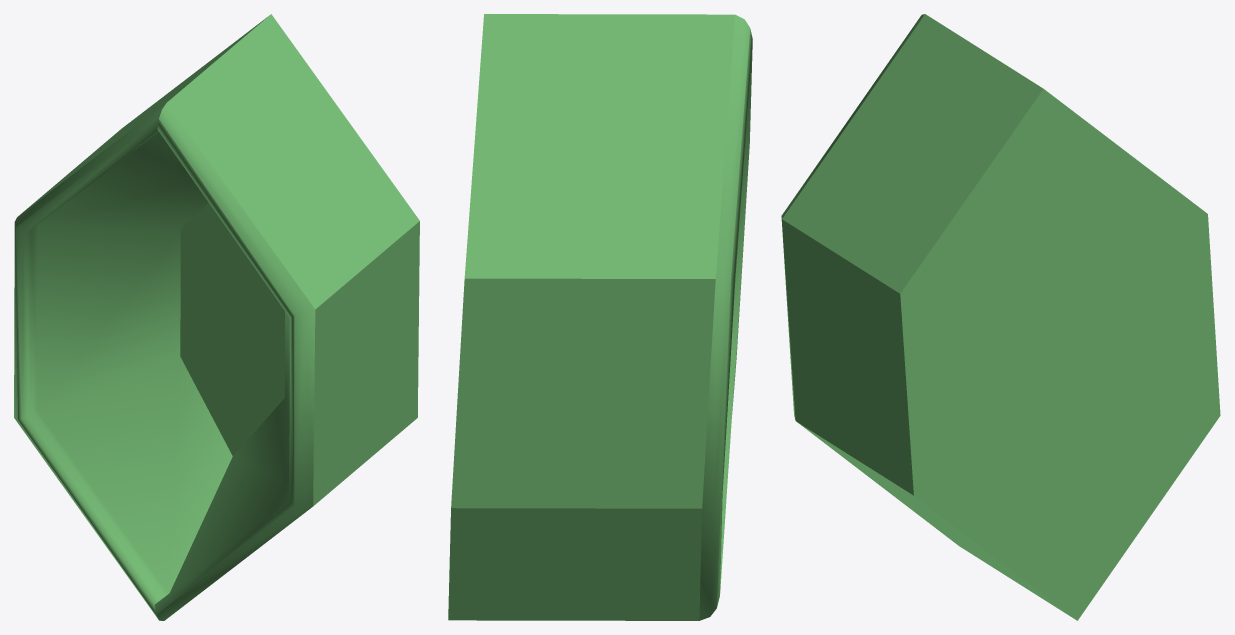
File: BL4_8shapes_Hex_Classic_Metal.001 3.glb
The picture shows the model from 3 angles, left to right: view 1: azimuth 30°, elevation 25°; view 2: azimuth 150°, elevation 25°; view 3: azimuth 270°, elevation 25°; orthographic projection. The views are drawn at different scales.
Visible parts, largest first — view 1: BL4_8shapes_Hex_Classic_Metal.001; view 2: BL4_8shapes_Hex_Classic_Metal.001; view 3: BL4_8shapes_Hex_Classic_Metal.001.
Boxes of the visible parts, x1,y1,x2,y2 form: BL4_8shapes_Hex_Classic_Metal.001: (14, 14, 419, 620); BL4_8shapes_Hex_Classic_Metal.001: (448, 14, 752, 620); BL4_8shapes_Hex_Classic_Metal.001: (781, 14, 1220, 620).
Size of the model in its own units: 0.4437 by 0.7168 by 0.5388.
